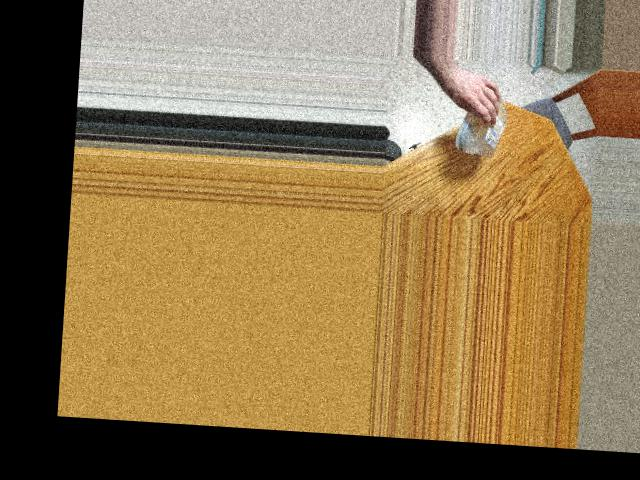cheese: (458, 96, 509, 154)
